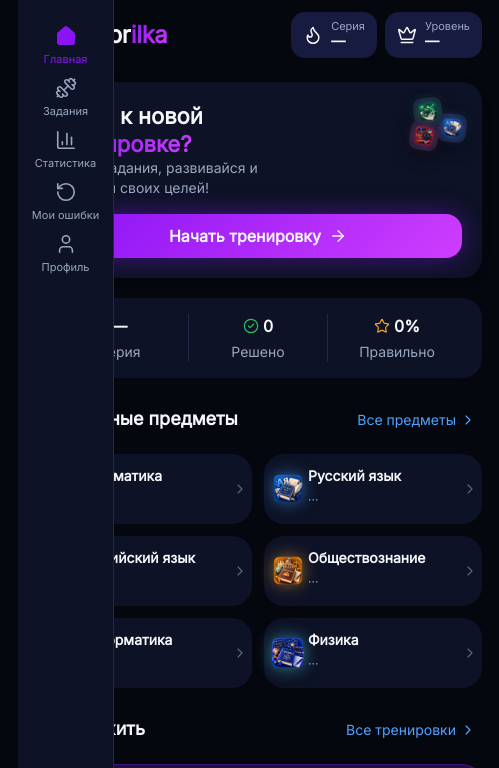
Test case: AppMobile — bottom nav (Главная/Задания/Статистика/Мои ошибки/Профиль) › "Профиль" opens the real Profile screen while keeping the bottom nav visible, Профиль highlighted
The image size is (499, 768).
Step 1. Click the button "Профиль" → (66, 254), box [18,232,113,276]
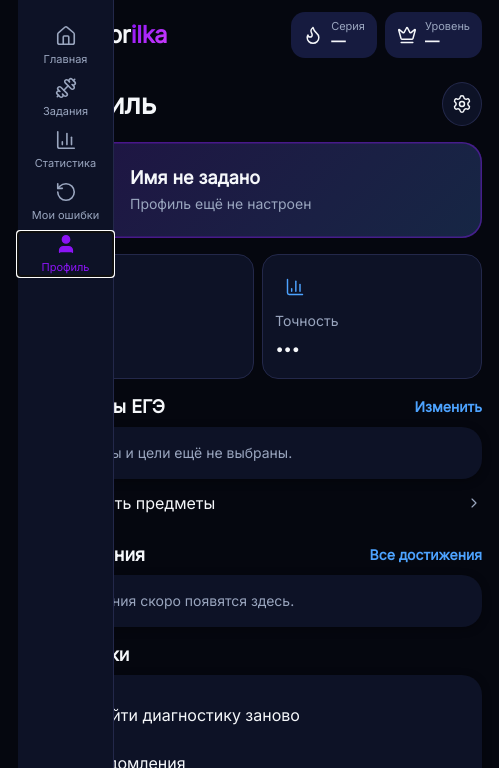
Expected: the button "Главная" is shown, [18,24,113,68]
Result: the button "Профиль" is marked as current at [18,232,113,276]
